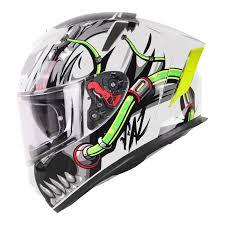helmet: (10, 9, 222, 218)
